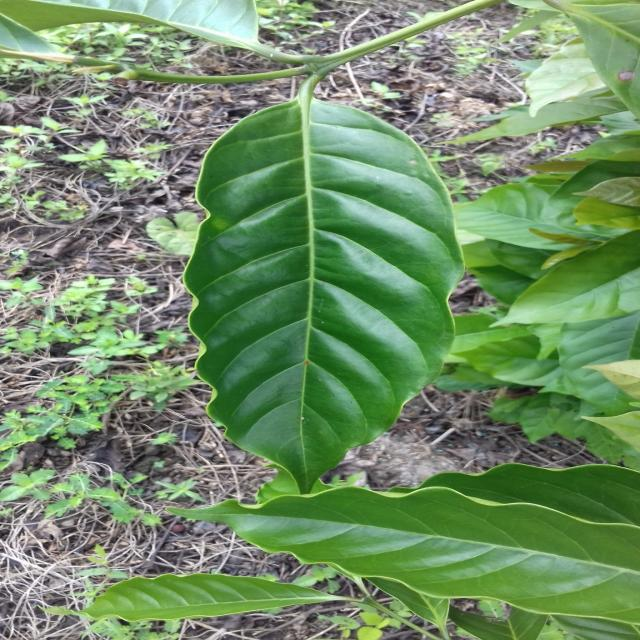Sanas: (147, 79, 467, 498)
